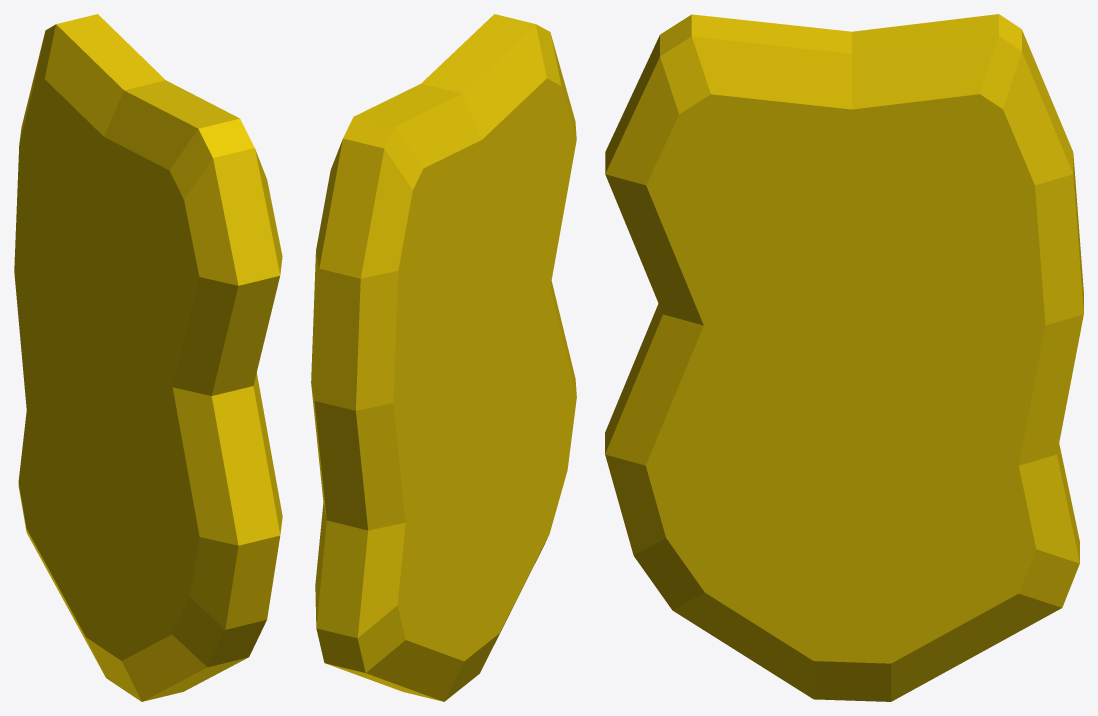
The model's file is slab.fbx.
The picture shows the model from 3 angles, left to right: view 1: azimuth 30°, elevation 25°; view 2: azimuth 150°, elevation 25°; view 3: azimuth 270°, elevation 25°; orthographic projection. The views are drawn at different scales.
Visible parts, largest first — view 1: Cube; view 2: Cube; view 3: Cube.
Part boxes in pixels (x1,y1,x2,y2): Cube: [14, 14, 282, 701]; Cube: [311, 14, 576, 701]; Cube: [605, 14, 1083, 701].
Size of the model in its own units: 66.99 by 475 by 310.
